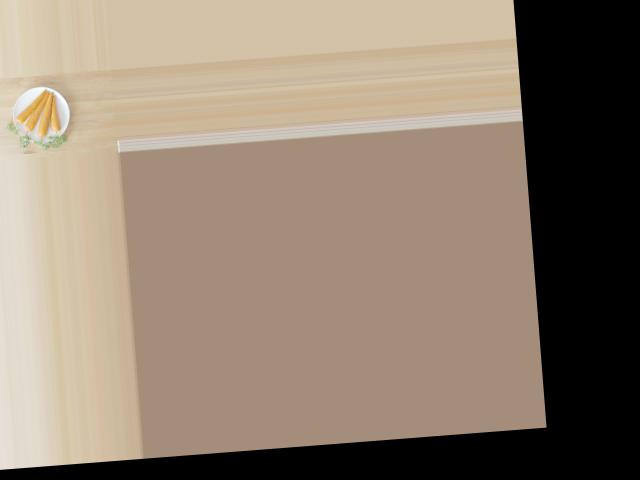carrot: (11, 87, 48, 126)
